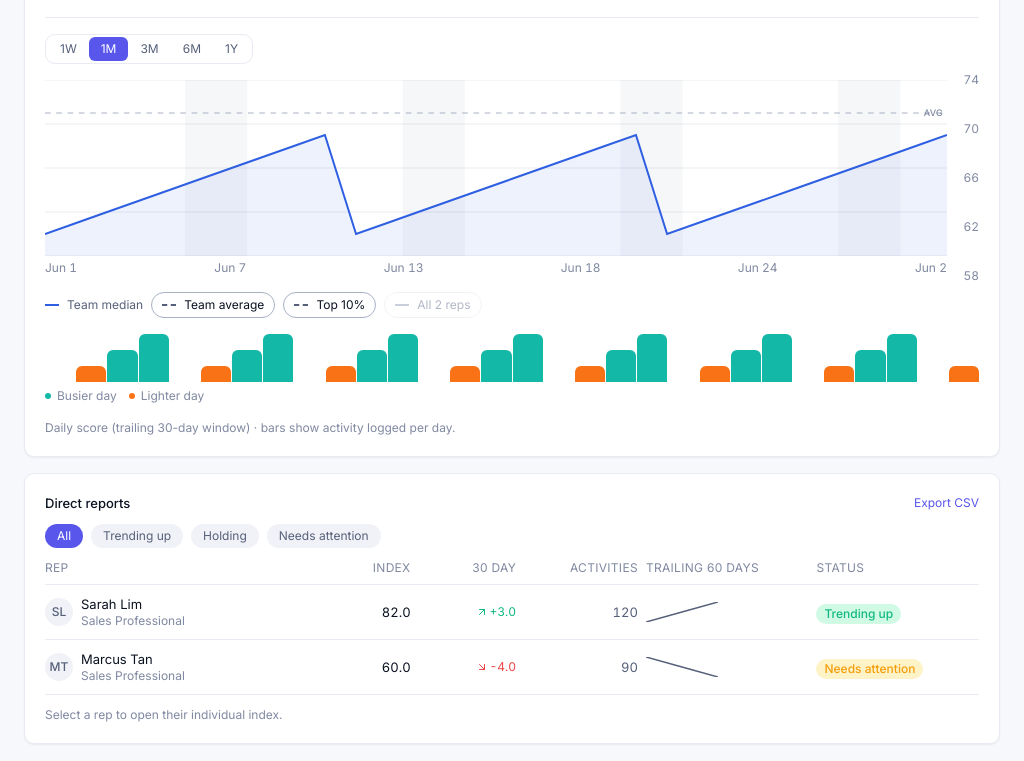
Test case: PersistenceIndexReport › shows the below-floor footnote when the SELECTED rep is below floor
(page scrolled)
Click the text "Sarah Lim".
click(112, 604)  # box [81,596,142,612]
(page scrolled)
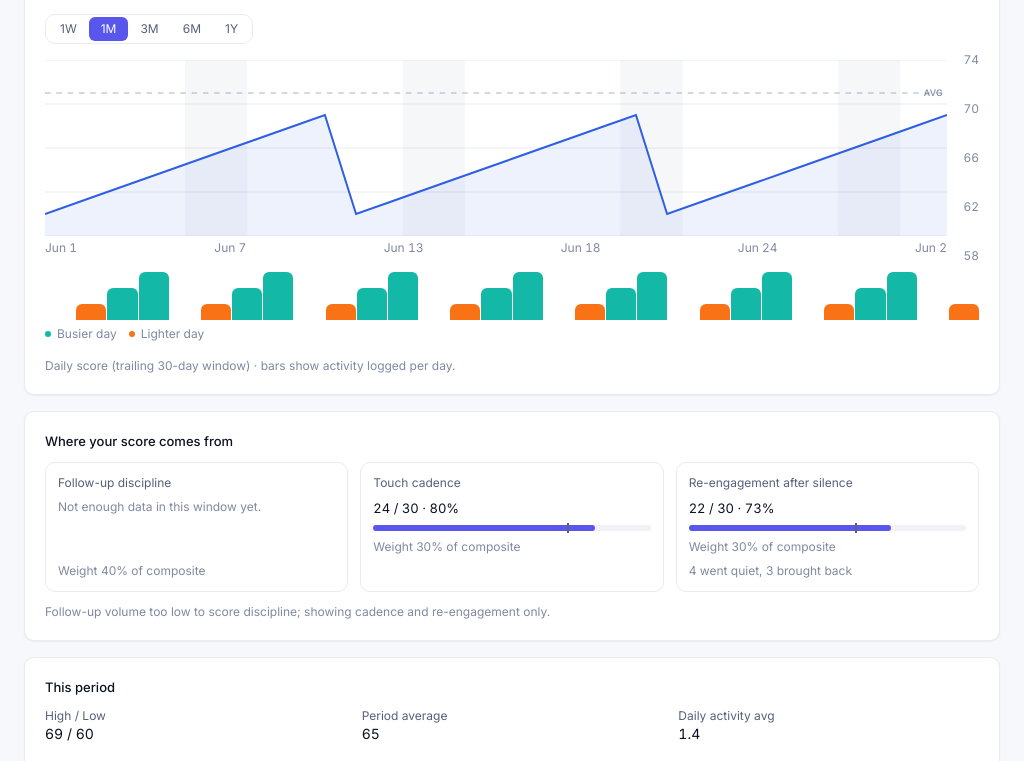
Result: the text "Follow-up volume too low" is shown at [45,604,550,619]
